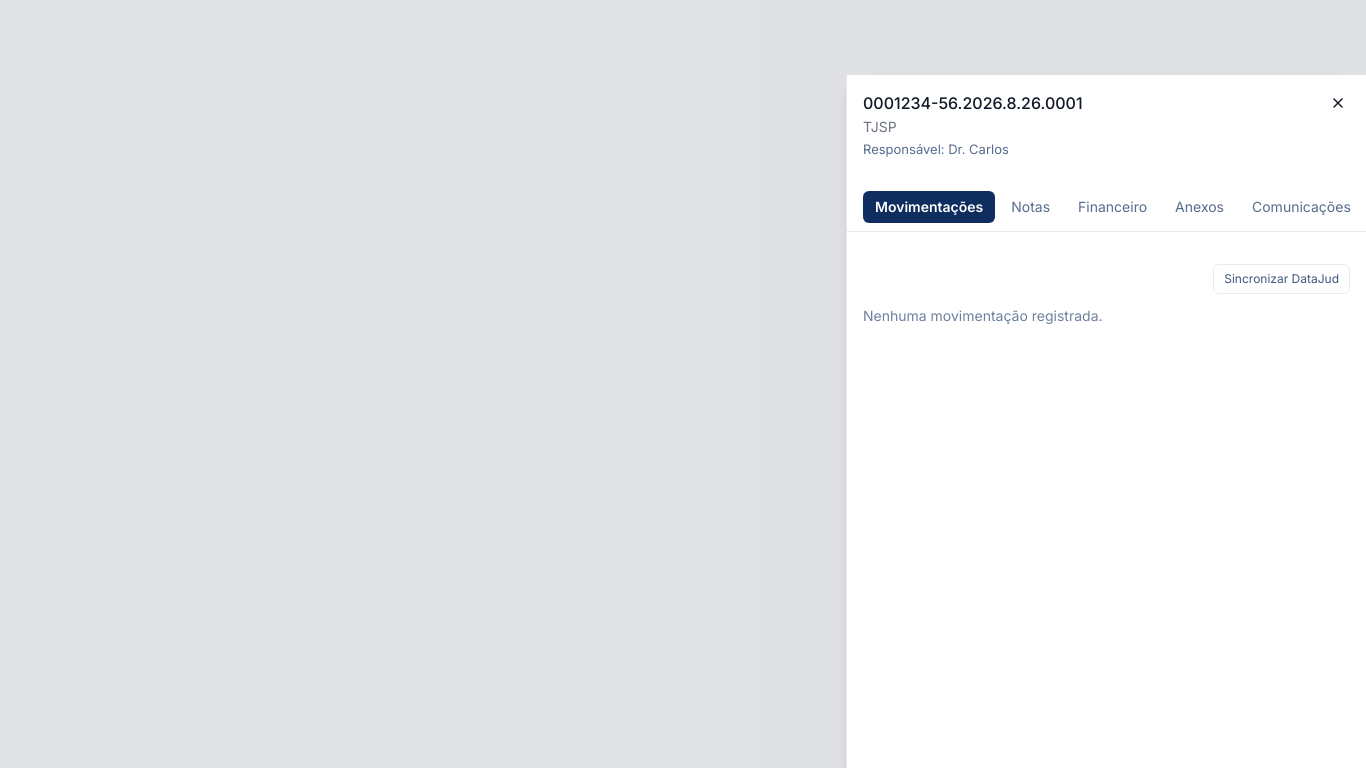
Scenario: Aba Comunicações — histórico › exibe ícone correto para canal email
The image size is (1366, 768).
Click the button "Comunicações": (1301, 207) [1240,191,1363,223]
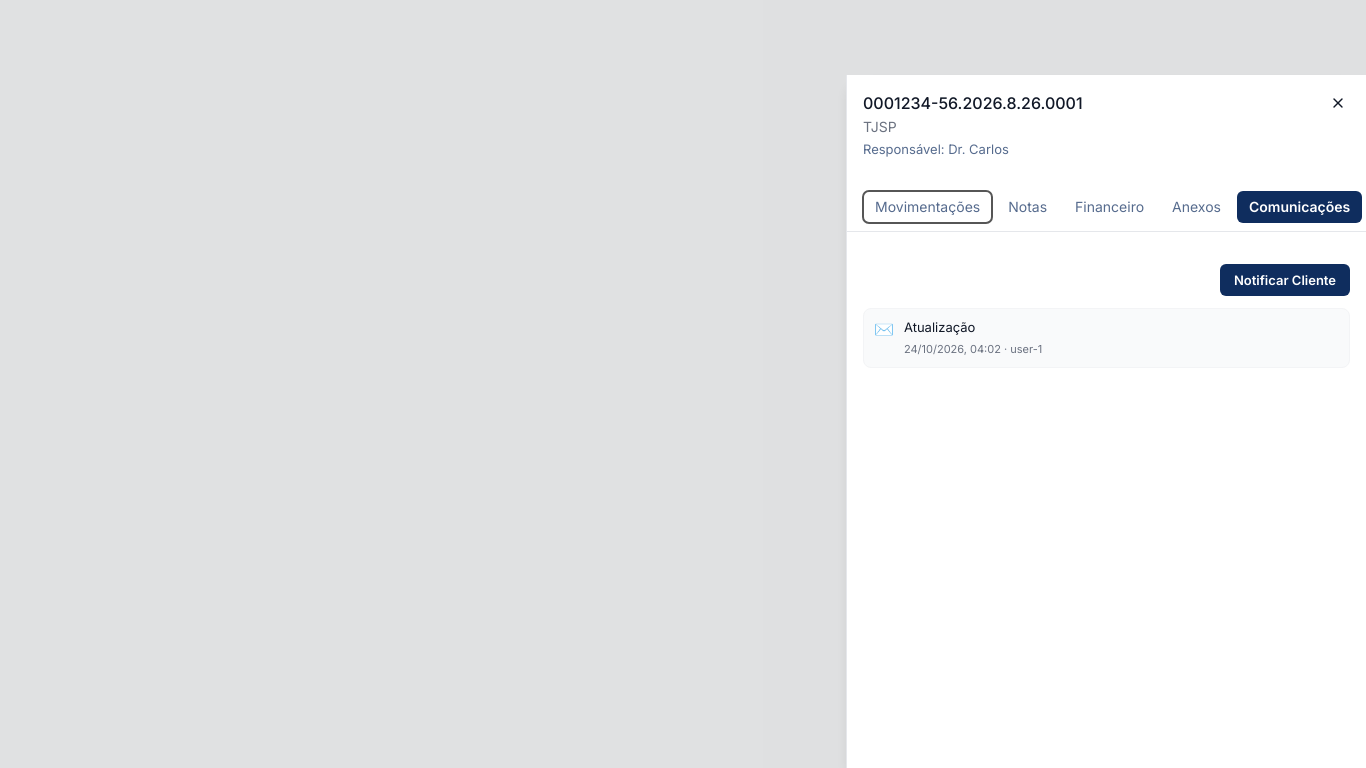
Expected: the text named "email" reads "✉️", [874,319,894,339]
